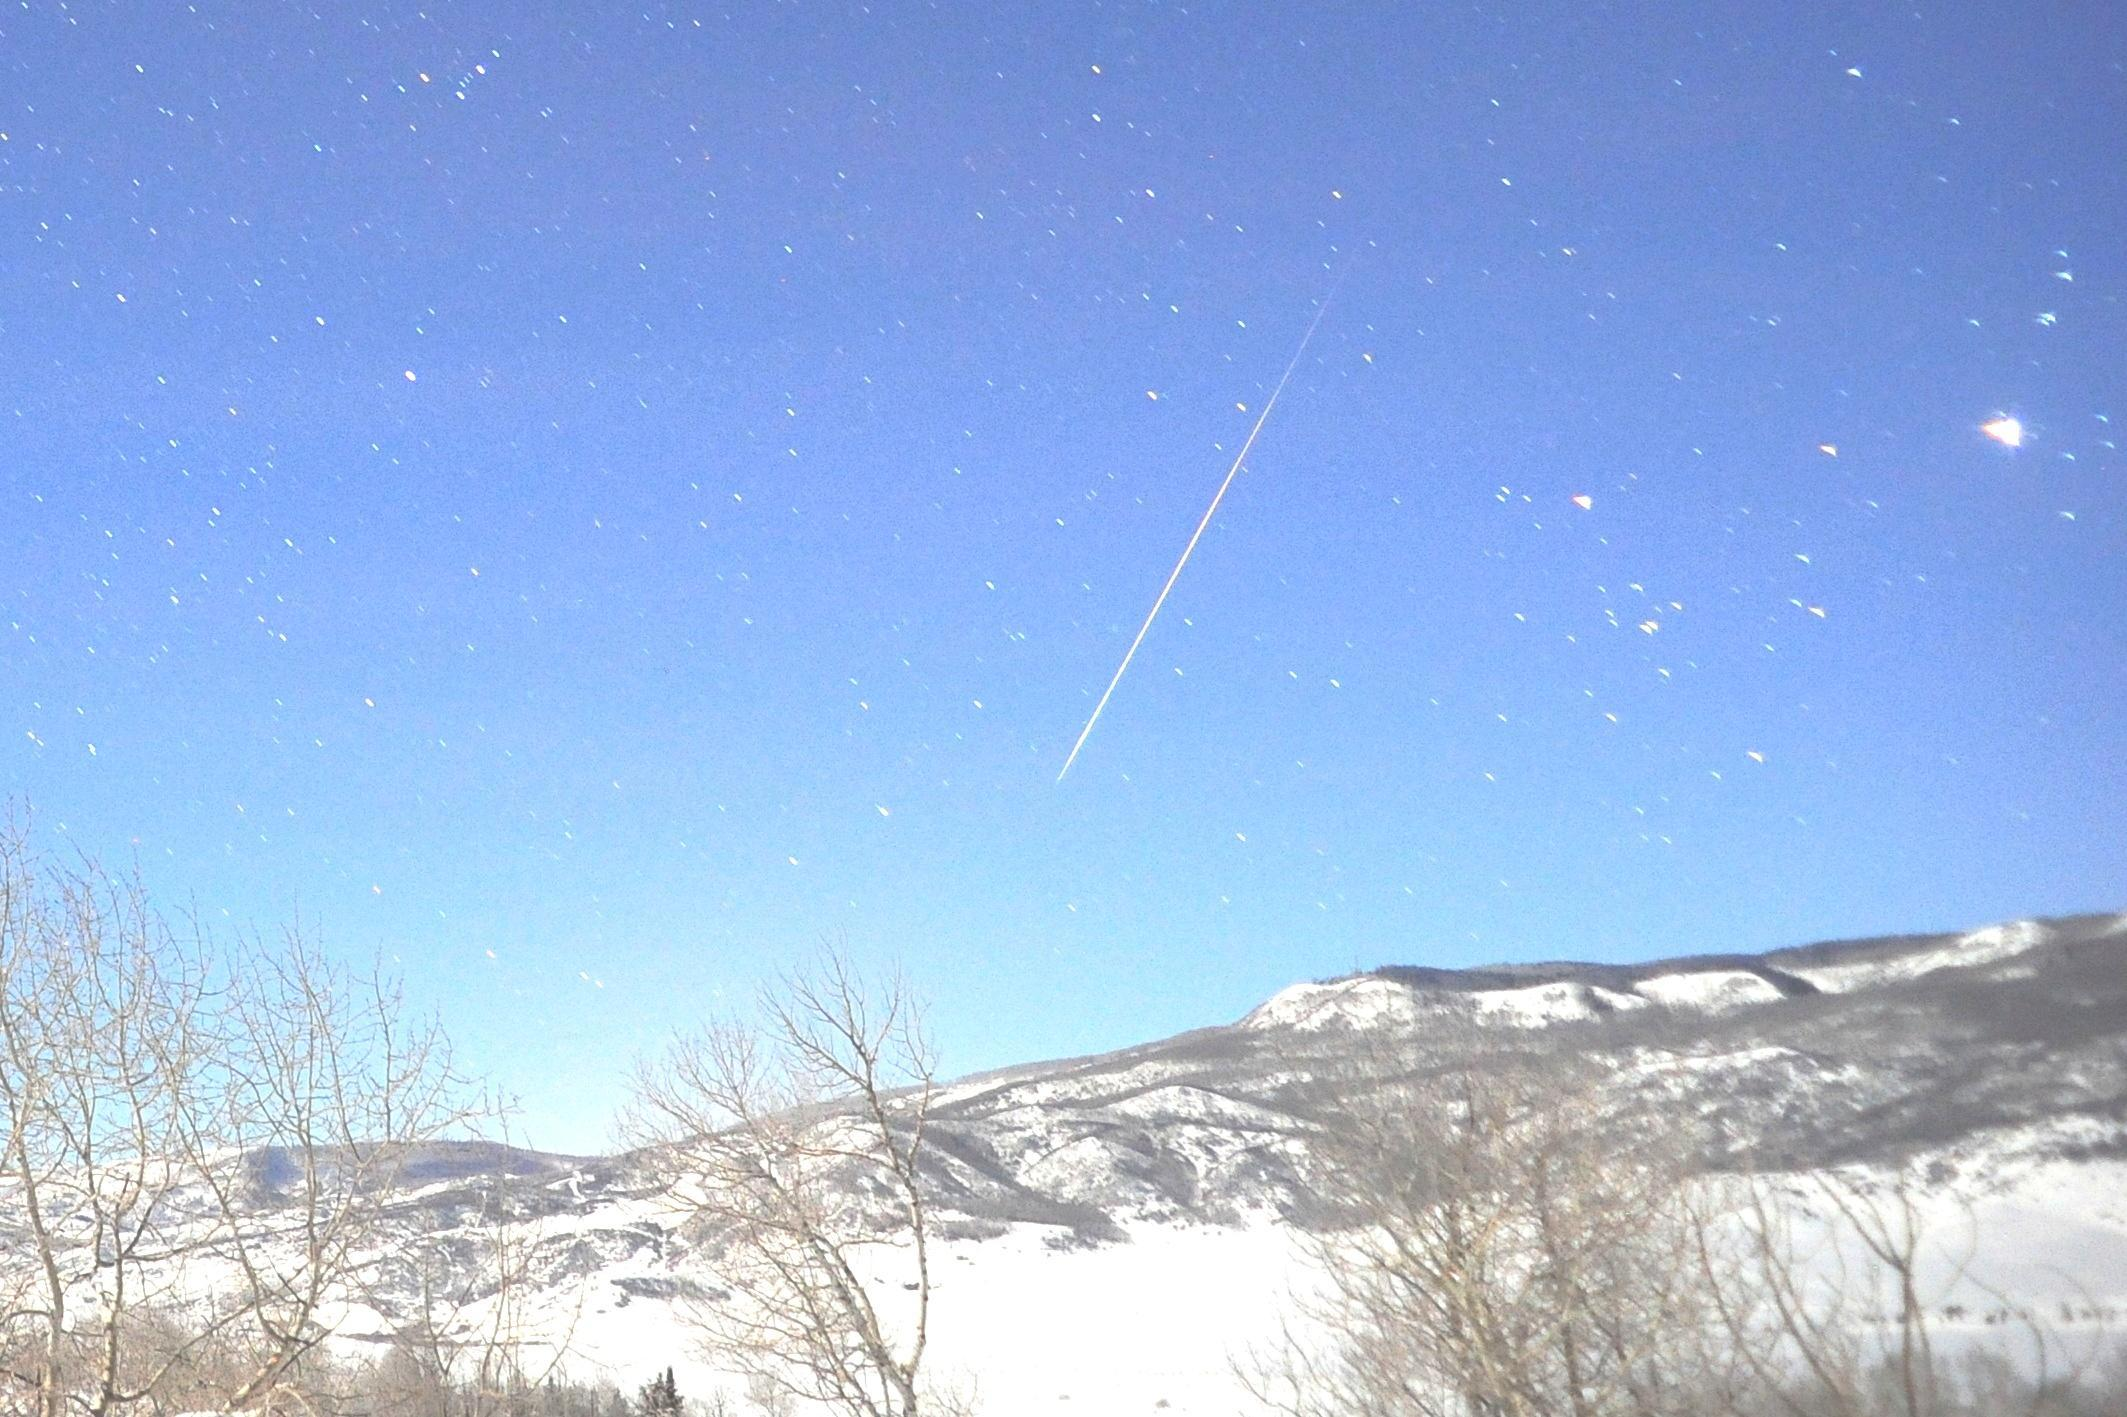meteorite: (992, 380, 1360, 799)
